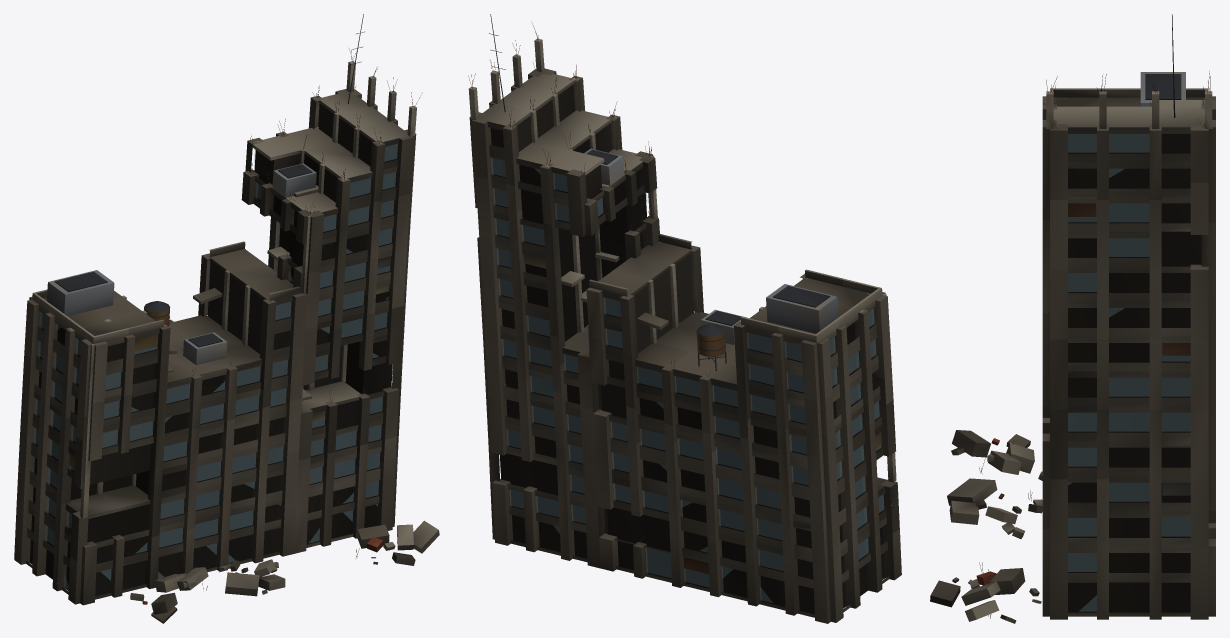
File: ruin_office_c.glb
3 renders of one model, left to right at view 1: azimuth 30°, elevation 25°; view 2: azimuth 150°, elevation 25°; view 3: azimuth 270°, elevation 25°, orthographic. The views are drawn at different scales.
Visible parts, largest first — view 1: concrete_dark, concrete, glass, metal_bare, metal_dark, canvas; view 2: concrete_dark, concrete, glass, metal_bare, metal_dark, canvas, wood; view 3: concrete_dark, concrete, glass, canvas, metal_dark, metal_bare.
Part boxes in pixels (left/top/right/bottom): concrete_dark: left=14, top=89, right=416, bottom=623; concrete: left=22, top=61, right=439, bottom=599; glass: left=31, top=144, right=397, bottom=589; metal_bare: left=47, top=163, right=316, bottom=365; metal_dark: left=54, top=14, right=364, bottom=347; canvas: left=69, top=256, right=391, bottom=468; concrete_dark: left=469, top=68, right=901, bottom=623; concrete: left=468, top=38, right=896, bottom=617; glass: left=491, top=158, right=883, bottom=602; metal_bare: left=584, top=148, right=838, bottom=344; metal_dark: left=489, top=14, right=830, bottom=370; canvas: left=523, top=255, right=881, bottom=574; wood: left=696, top=331, right=725, bottom=356; concrete_dark: left=930, top=96, right=1215, bottom=623; concrete: left=947, top=88, right=1212, bottom=621; glass: left=1068, top=134, right=1190, bottom=611; canvas: left=1068, top=203, right=1190, bottom=495; metal_dark: left=1145, top=14, right=1181, bottom=117; metal_bare: left=1140, top=72, right=1185, bottom=106.
Size of what is drawn, in the model's own units: 45.81 by 60.56 by 25.25.
